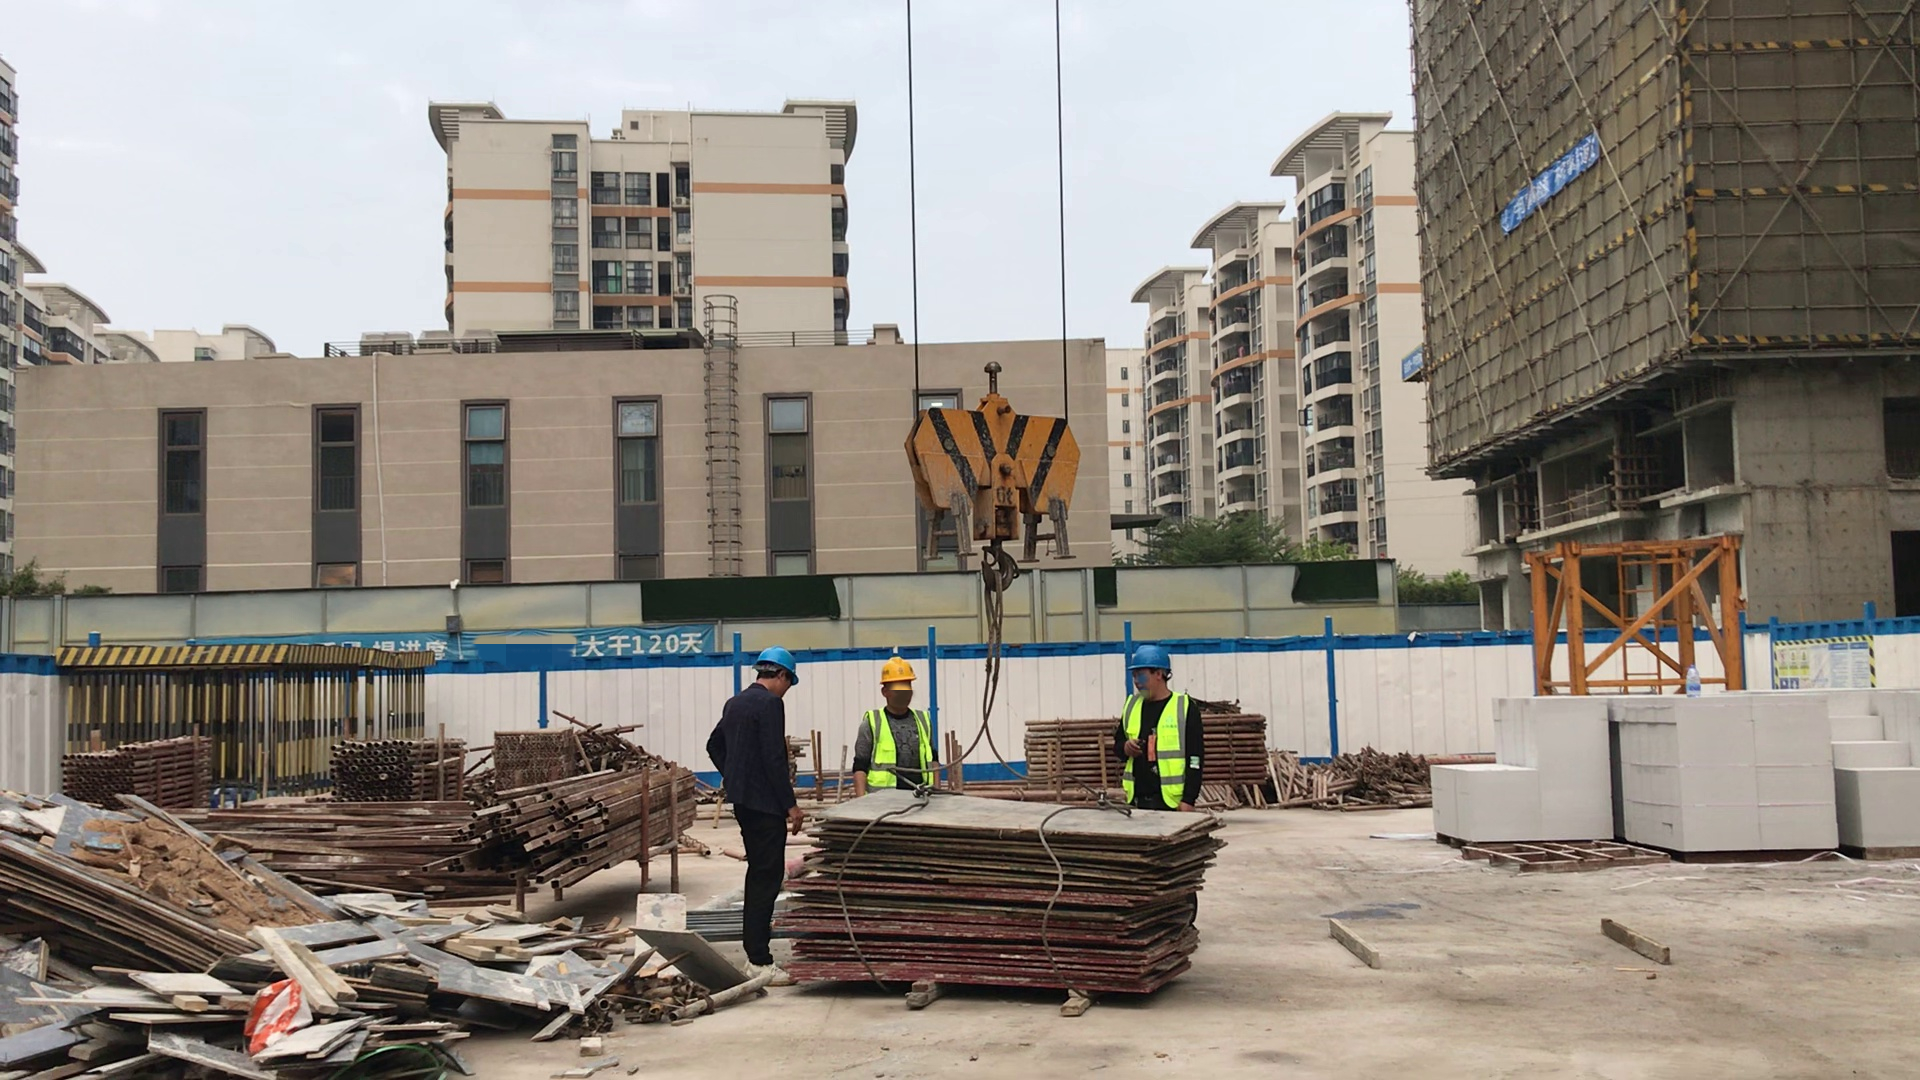board: (785, 790, 1229, 1001)
helmet: (751, 648, 800, 678), (1127, 645, 1171, 674), (876, 658, 918, 686)
hook: (900, 397, 1080, 594)
person: (706, 646, 796, 990), (1107, 641, 1206, 813), (848, 652, 936, 795)
scaffold: (78, 735, 217, 818), (496, 723, 613, 783), (336, 739, 458, 793), (1036, 722, 1117, 789), (1206, 720, 1265, 781)
slogan: (333, 621, 709, 654), (1503, 131, 1594, 239), (1773, 640, 1873, 688)
vest: (1123, 689, 1188, 807), (866, 708, 935, 794)
wood: (1424, 688, 1920, 857)
